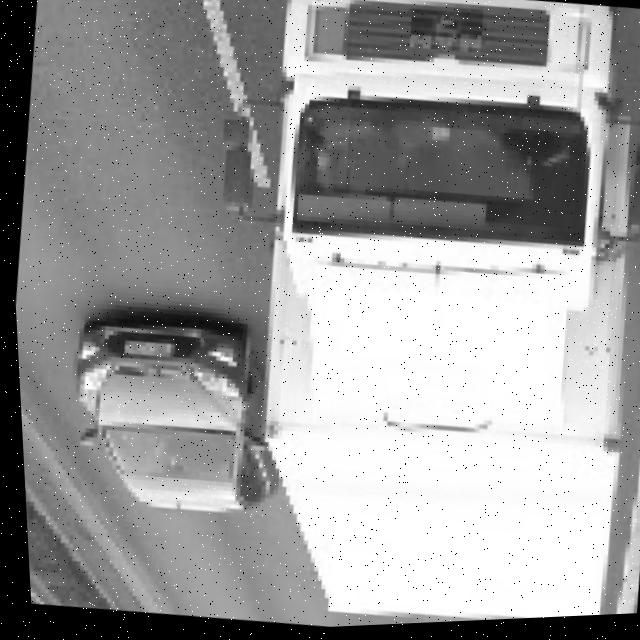truck: (200, 1, 640, 457)
